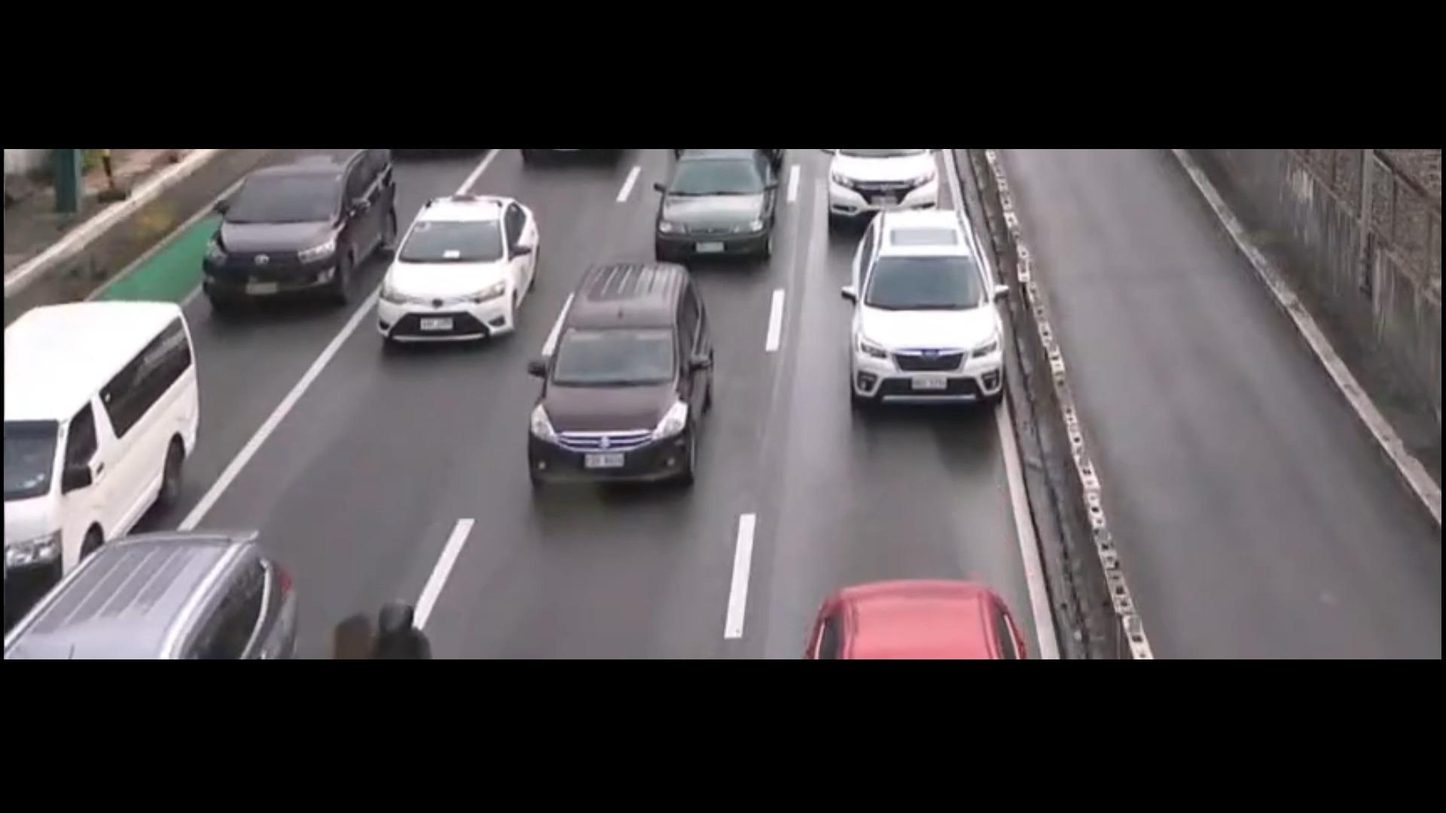SUV: (526, 261, 715, 492), (4, 527, 306, 660), (847, 209, 1001, 414), (203, 151, 393, 315)
Sedan: (374, 191, 542, 351), (656, 149, 780, 266)
Van: (6, 300, 197, 628)
